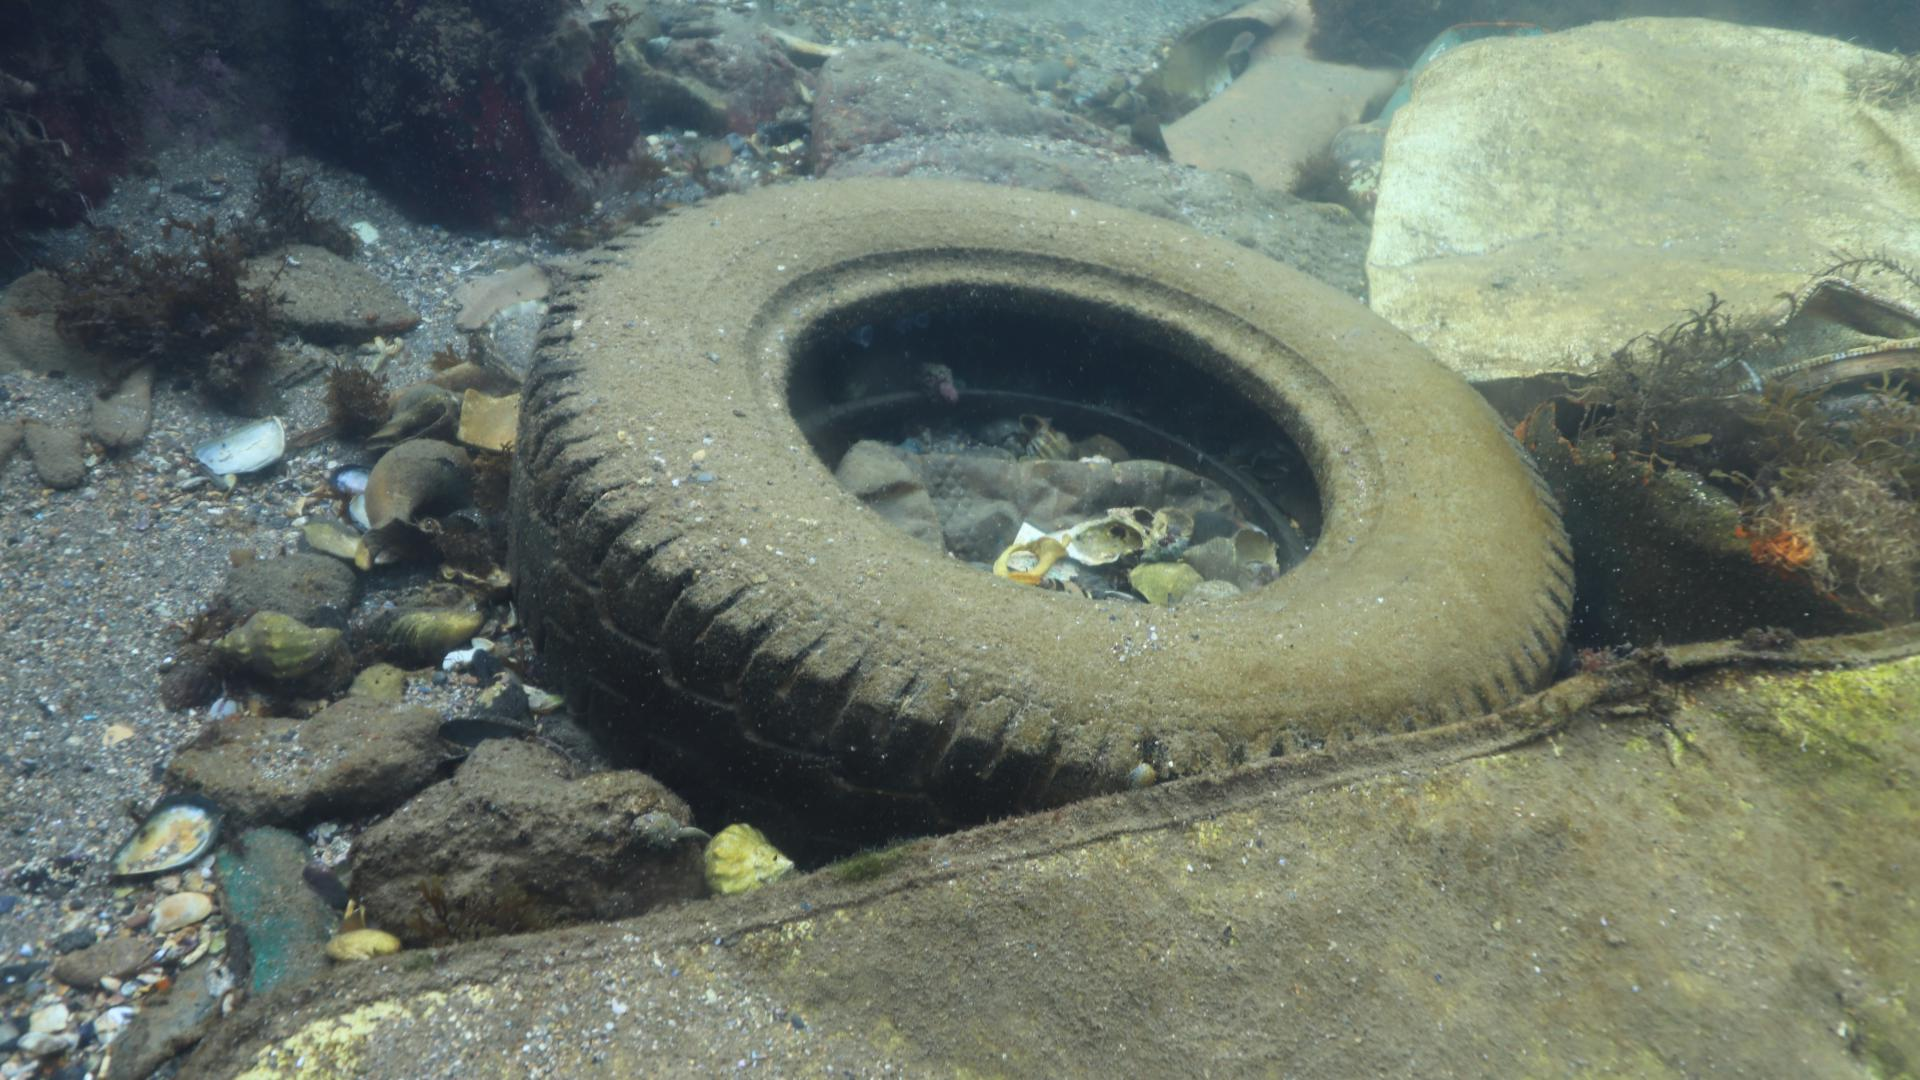tire: (508, 171, 1575, 870)
